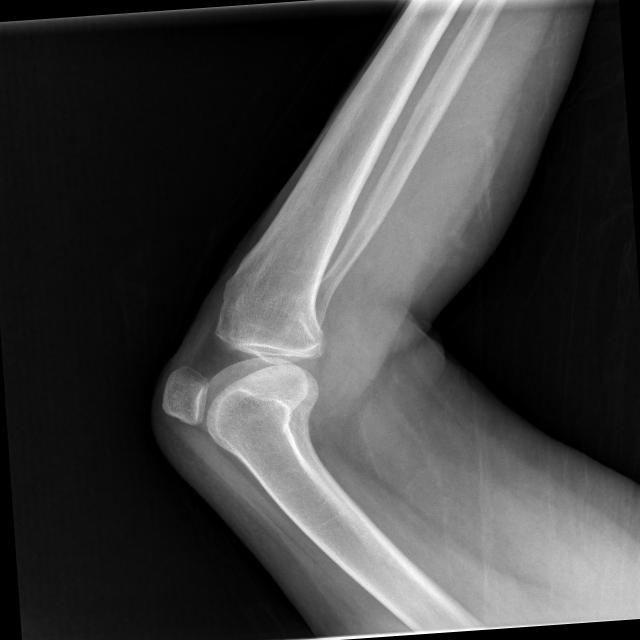Knee: (148, 282, 331, 444)
